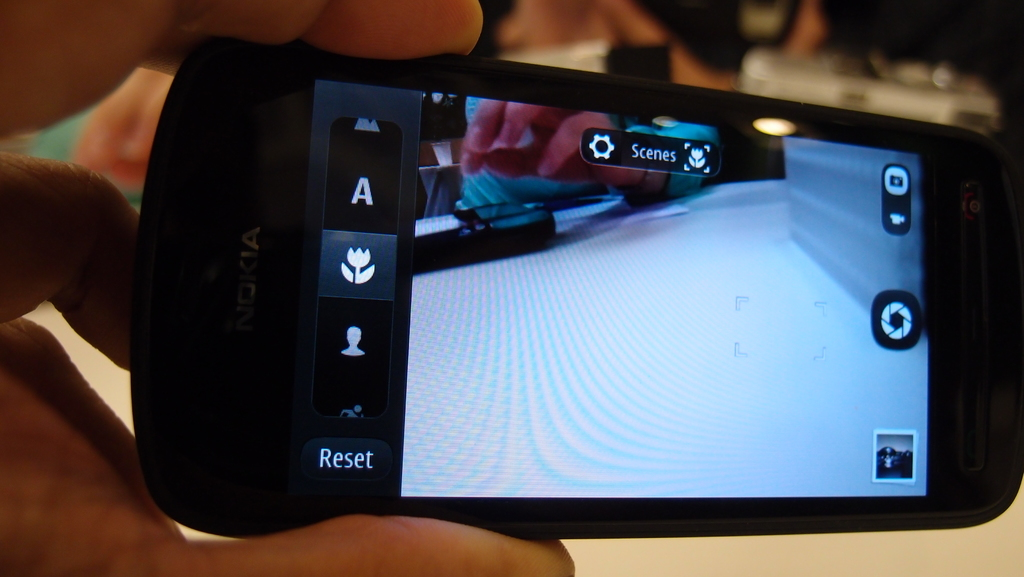Mobile-phone: (126, 28, 1024, 530)
